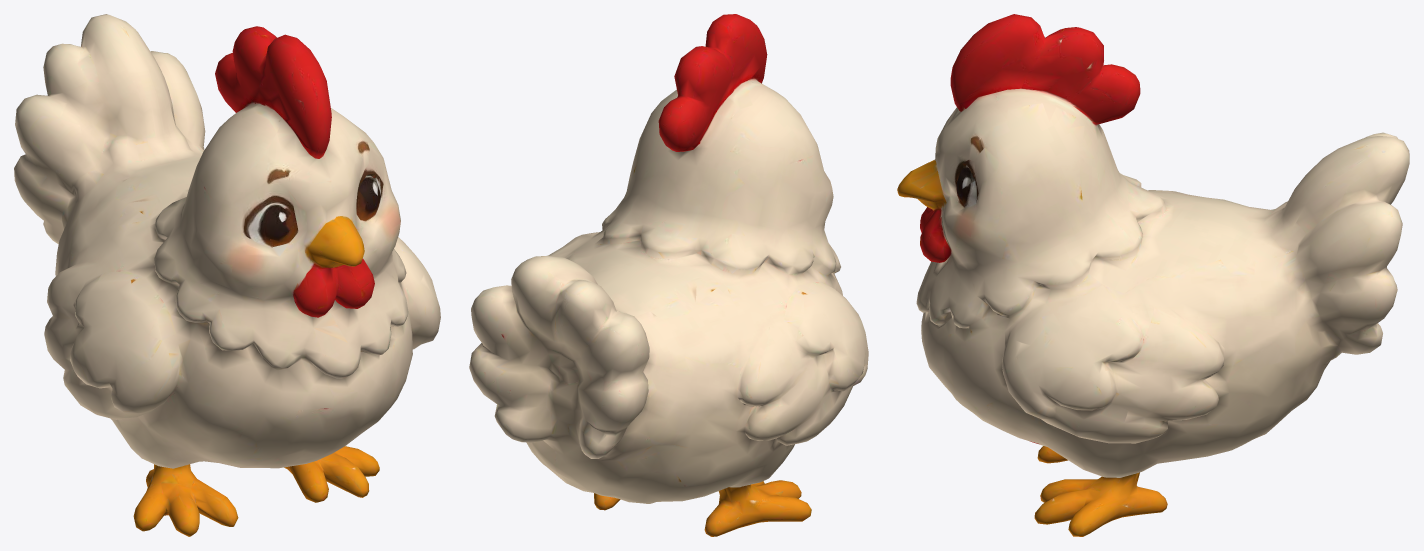
3 renders of one model, left to right at view 1: azimuth 30°, elevation 25°; view 2: azimuth 150°, elevation 25°; view 3: azimuth 270°, elevation 25°, orthographic. The views are drawn at different scales.
Parts seen in each view (by area): view 1: tripo_node_909925ff-afa2-4530-8439-14f511983338; view 2: tripo_node_909925ff-afa2-4530-8439-14f511983338; view 3: tripo_node_909925ff-afa2-4530-8439-14f511983338.
Boxes of the visible parts, x1=… form: tripo_node_909925ff-afa2-4530-8439-14f511983338: x1=14, y1=14, x2=440, y2=536; tripo_node_909925ff-afa2-4530-8439-14f511983338: x1=469, y1=14, x2=868, y2=536; tripo_node_909925ff-afa2-4530-8439-14f511983338: x1=897, y1=14, x2=1409, y2=536.
Bounding box in the file's own units: 0.2951 × 0.4 × 0.3968.
1 material, 1 textured.
